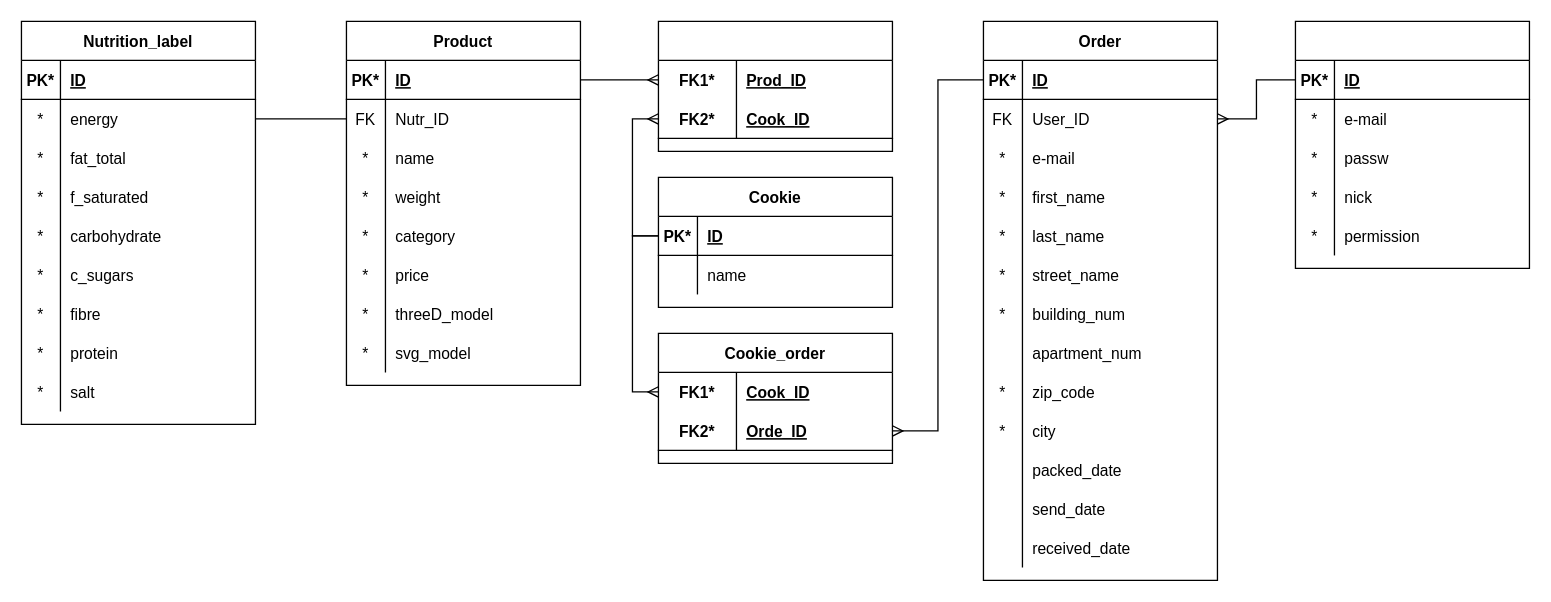
Image size: 1551x602. Some labels were removed from this diagram. Each missing label, with the box of its shape:
Cookie_product: (657, 20, 892, 151)
User: (1294, 20, 1529, 268)
